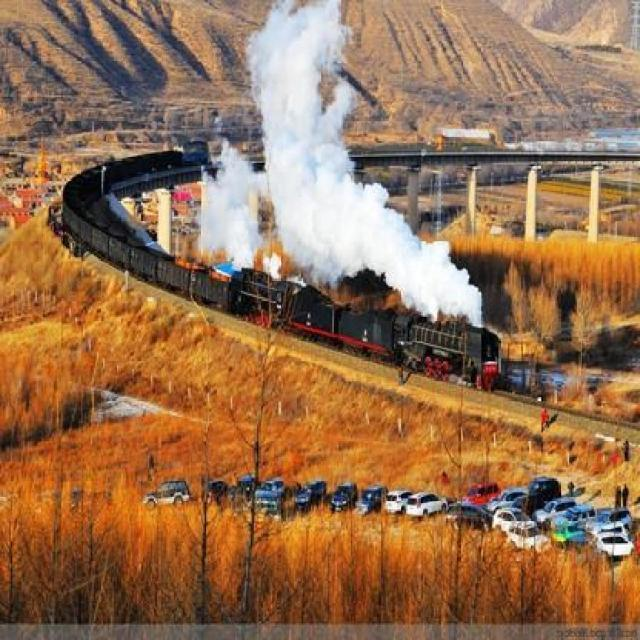Smoke: (198, 0, 484, 329)
